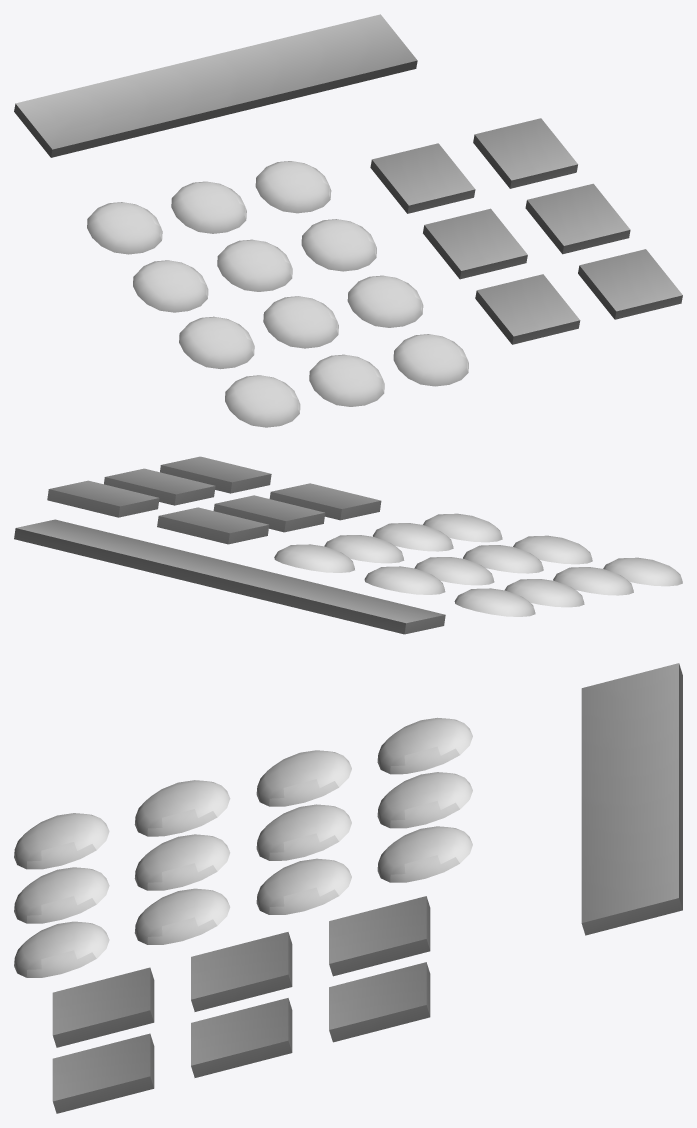
The model's file is boutons_caisse.fbx.
3 renders of one model, top to bottom at view 1: azimuth 30°, elevation 25°; view 2: azimuth 150°, elevation 25°; view 3: azimuth 270°, elevation 25°, orthographic. The views are drawn at different scales.
Parts seen in each view (by area): view 1: boutons; view 2: boutons; view 3: boutons.
Boxes of the visible parts, x1,y1,x2,y2 form: boutons: (14, 14, 682, 427); boutons: (14, 456, 682, 634); boutons: (14, 663, 682, 1113).
Size of the model in its own units: 48.07 by 14.42 by 46.98.
